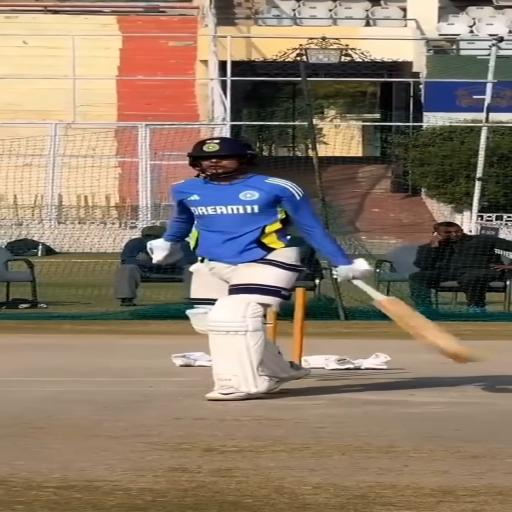Cricket bat: (350, 279, 480, 363)
